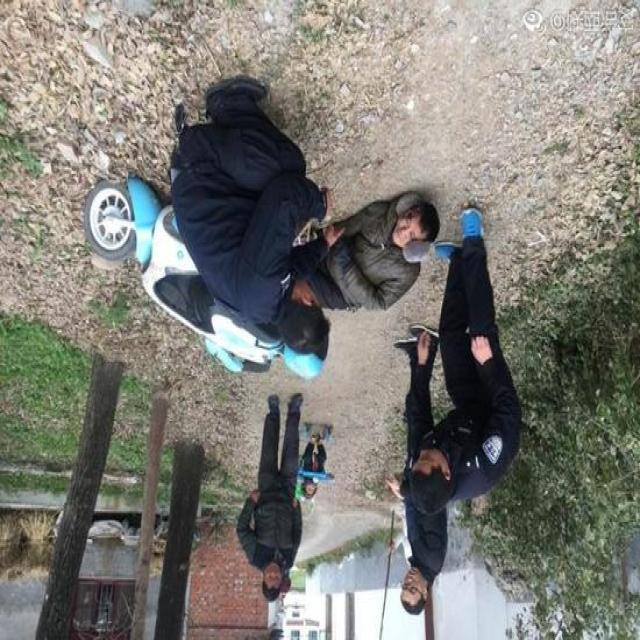nofight: (399, 219, 503, 494), (300, 195, 444, 339), (235, 400, 309, 603), (390, 502, 450, 609)
